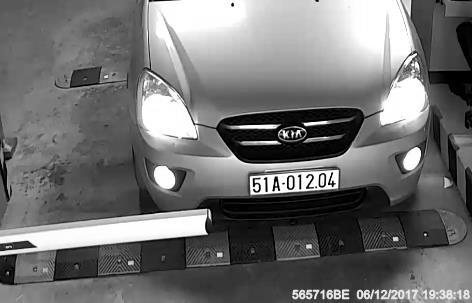License-plate: (241, 160, 348, 206)
